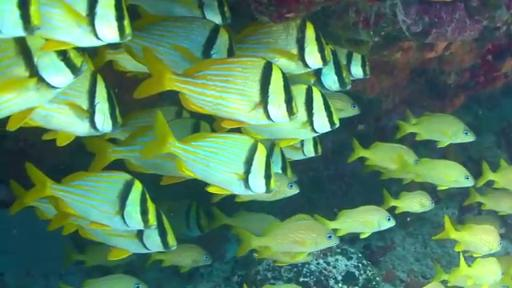Fish: (134, 48, 297, 127), (141, 112, 275, 194), (23, 163, 158, 229), (7, 69, 122, 146), (99, 17, 234, 73), (0, 36, 87, 118), (83, 126, 189, 183), (242, 84, 339, 146), (236, 20, 331, 73), (35, 0, 131, 51), (77, 212, 177, 260), (10, 180, 90, 235), (235, 215, 339, 255), (396, 111, 475, 147), (104, 106, 190, 139), (289, 47, 352, 92), (433, 216, 502, 256), (314, 206, 395, 238), (128, 0, 231, 24), (348, 139, 419, 171), (400, 159, 474, 189), (160, 201, 212, 239), (211, 208, 280, 235), (235, 172, 299, 201), (449, 253, 503, 287), (10, 180, 57, 219), (309, 48, 351, 91), (148, 244, 211, 272), (0, 0, 41, 38), (66, 244, 132, 267), (262, 140, 296, 180), (463, 188, 511, 215), (332, 46, 370, 79), (382, 190, 435, 213), (476, 160, 511, 190), (282, 136, 322, 161), (324, 92, 360, 119), (432, 260, 468, 287), (255, 248, 312, 265), (461, 213, 505, 233), (81, 274, 147, 287), (496, 254, 512, 275), (263, 284, 300, 287), (424, 282, 444, 287)
